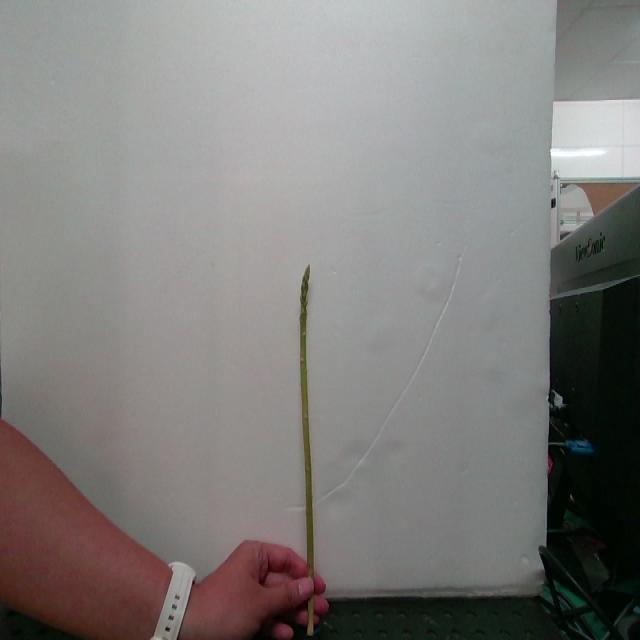aspargus: (298, 266, 316, 575)
